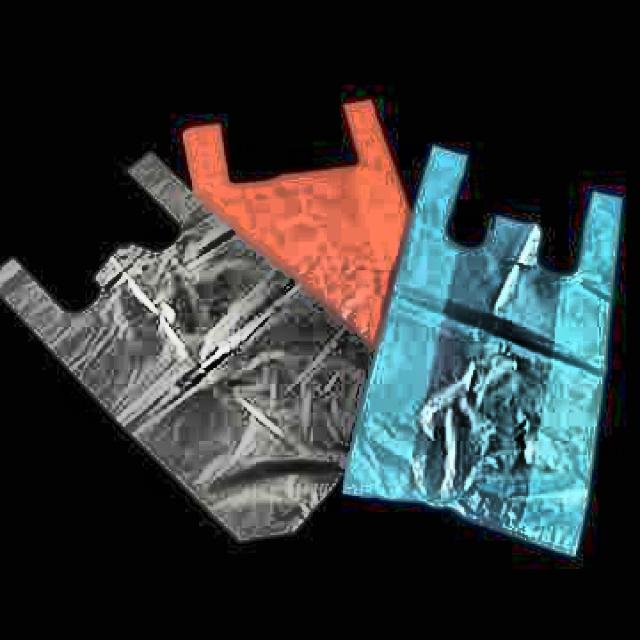Plastic: (0, 135, 402, 580), (333, 112, 640, 565), (168, 62, 444, 366)
